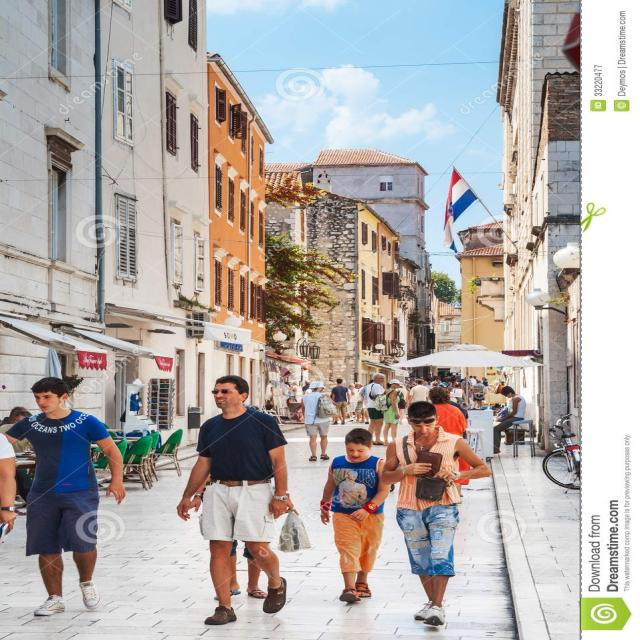body: (0, 373, 129, 618), (173, 372, 292, 629), (378, 400, 497, 628), (183, 403, 301, 600), (316, 427, 394, 606), (0, 401, 44, 545), (427, 385, 473, 498), (299, 380, 338, 462), (493, 385, 528, 455), (374, 378, 405, 448), (268, 377, 312, 422), (404, 372, 490, 395), (364, 372, 388, 446), (448, 394, 472, 444), (328, 377, 349, 426), (351, 382, 367, 424), (407, 378, 430, 404), (345, 382, 360, 421), (396, 385, 408, 425), (472, 379, 486, 411), (449, 384, 466, 404), (462, 381, 472, 405), (481, 377, 489, 397)
